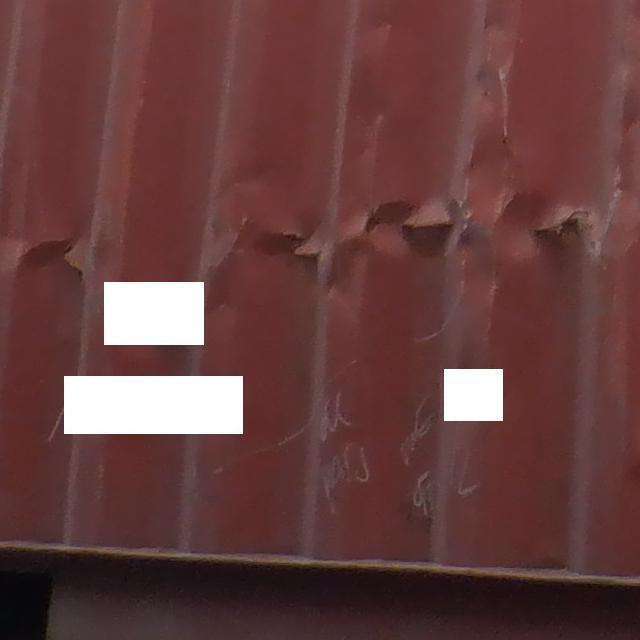dent: (200, 72, 640, 276), (2, 228, 97, 300)
